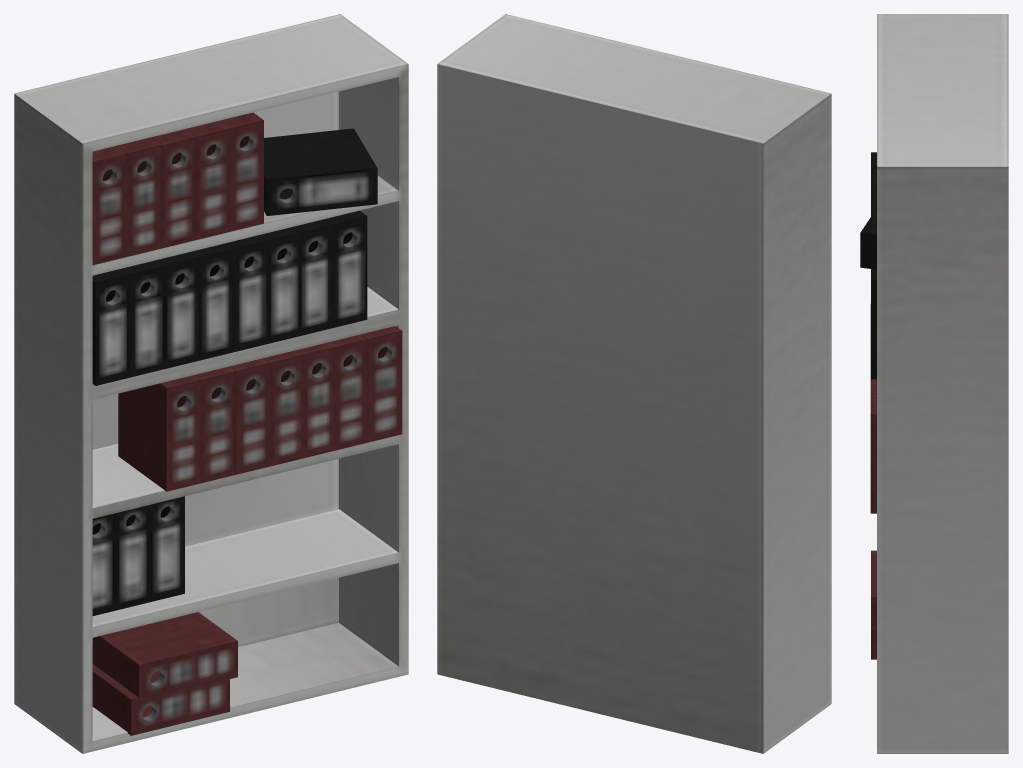
Rendered from file_shelf.glb.
3 views of the same model, side by side, from view 1: azimuth 30°, elevation 25°; view 2: azimuth 150°, elevation 25°; view 3: azimuth 270°, elevation 25° (orthographic). The views are drawn at different scales.
Parts seen in each view (by area): view 1: Cubo.003; view 2: Cubo.003; view 3: Cubo.003.
Part boxes in pixels (x1,y1,x2,y2): Cubo.003: [14, 14, 408, 753]; Cubo.003: [437, 14, 831, 753]; Cubo.003: [860, 14, 1008, 753].
Bounding box in the file's own units: 1.08 × 1.92 × 0.441.
Materials: 1 (1 with a texture image).
